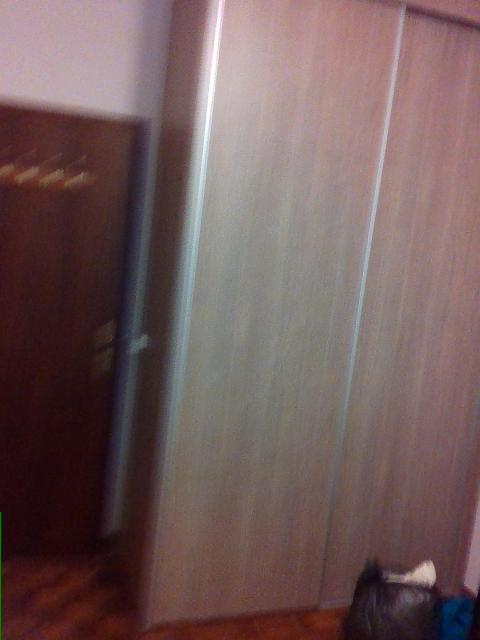door: (1, 96, 148, 556)
